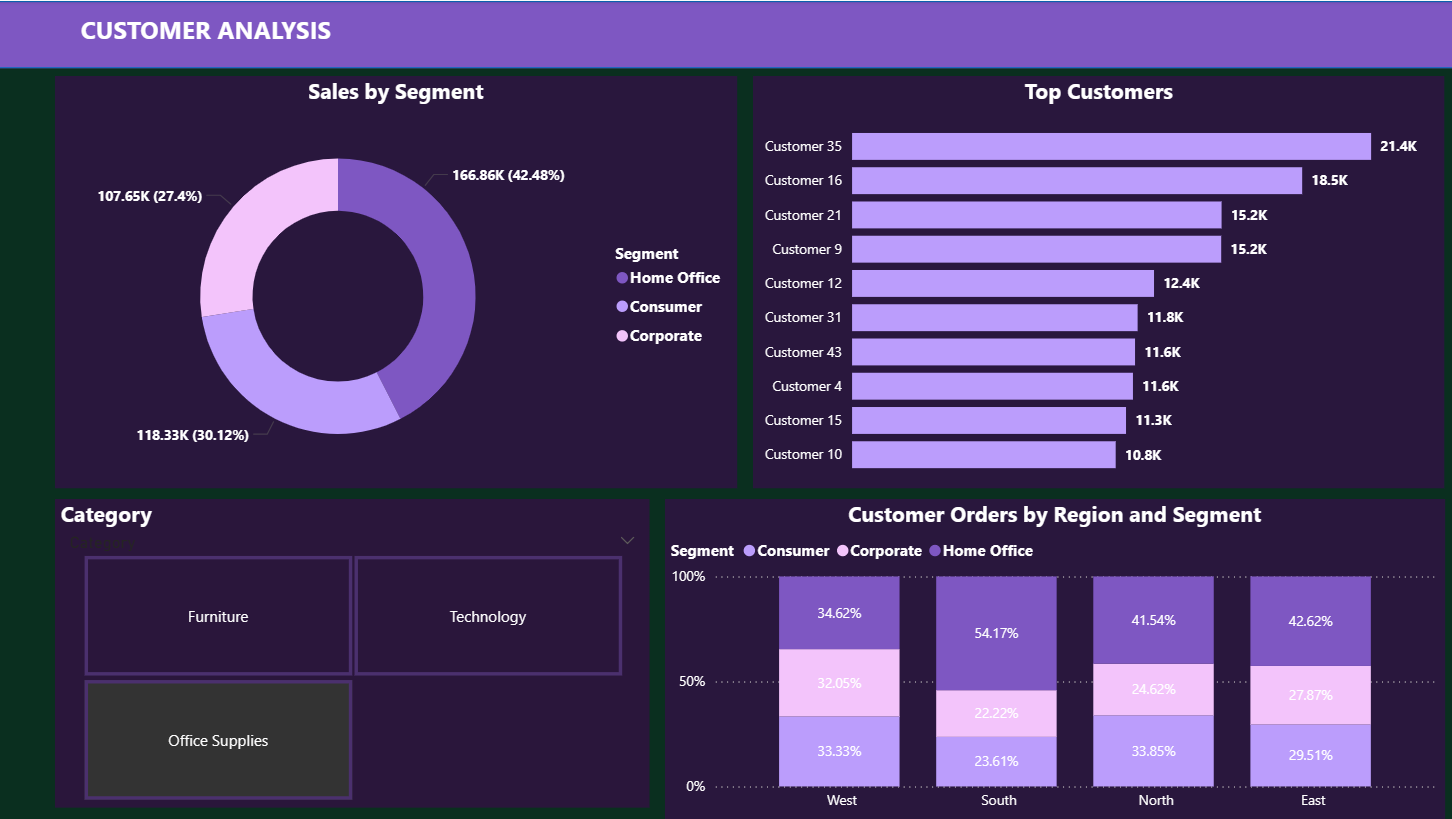

This screenshot's page, from the dashboard's own definition file:
{"tool":"powerbi","page":{"name":"Customer Analysis","canvas":[1280,720],"ordinal":3},"visuals":[{"type":"shape","box":[0,0,1280,59.1],"z":0},{"type":"textbox","box":[67.3,5.5,457.3,48.2],"z":1000},{"type":"donutChart","title":"Sales by Segment","fields":{"Category":["Customers.Segment"],"Y":["Sales.Total Sales"]},"box":[50,65.9,598.8,361.8],"z":2000},{"type":"clusteredBarChart","title":"Top Customers","fields":{"Category":["Customers.CustomerName"],"Y":["Sales.Total Sales"]},"box":[662.7,65.5,607.3,361.8],"z":3000},{"type":"hundredPercentStackedColumnChart","fields":{"Category":["Sales.Region"],"Y":["Sales.Customer Orders"],"Series":["Customers.Segment"]},"box":[585.5,437.3,684.5,282.7],"z":4000},{"type":"slicer","title":"Category","fields":{"Values":["Products.Category"]},"box":[50,437.3,521.6,271.3],"z":5000}]}

Visuals, with their boxes in screenshot pixels (x1, y1, x2, y2), scaled from the page's 1280x720 canvas onto the 1452x819 screenshot:
shape: (x1=0, y1=0, x2=1451, y2=67)
textbox: (x1=76, y1=6, x2=595, y2=61)
"Sales by Segment" donutChart: (x1=57, y1=75, x2=736, y2=487)
"Top Customers" clusteredBarChart: (x1=752, y1=75, x2=1441, y2=486)
hundredPercentStackedColumnChart - Sales.Region x Sales.Customer Orders: (x1=664, y1=497, x2=1441, y2=818)
"Category" slicer: (x1=57, y1=497, x2=648, y2=806)
